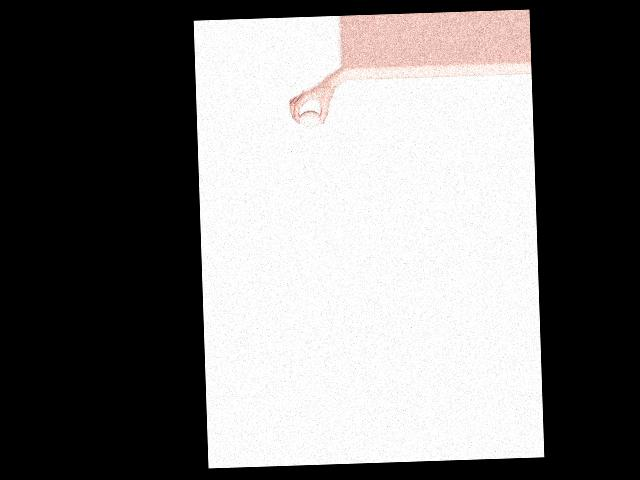egg: (299, 110, 321, 127)
